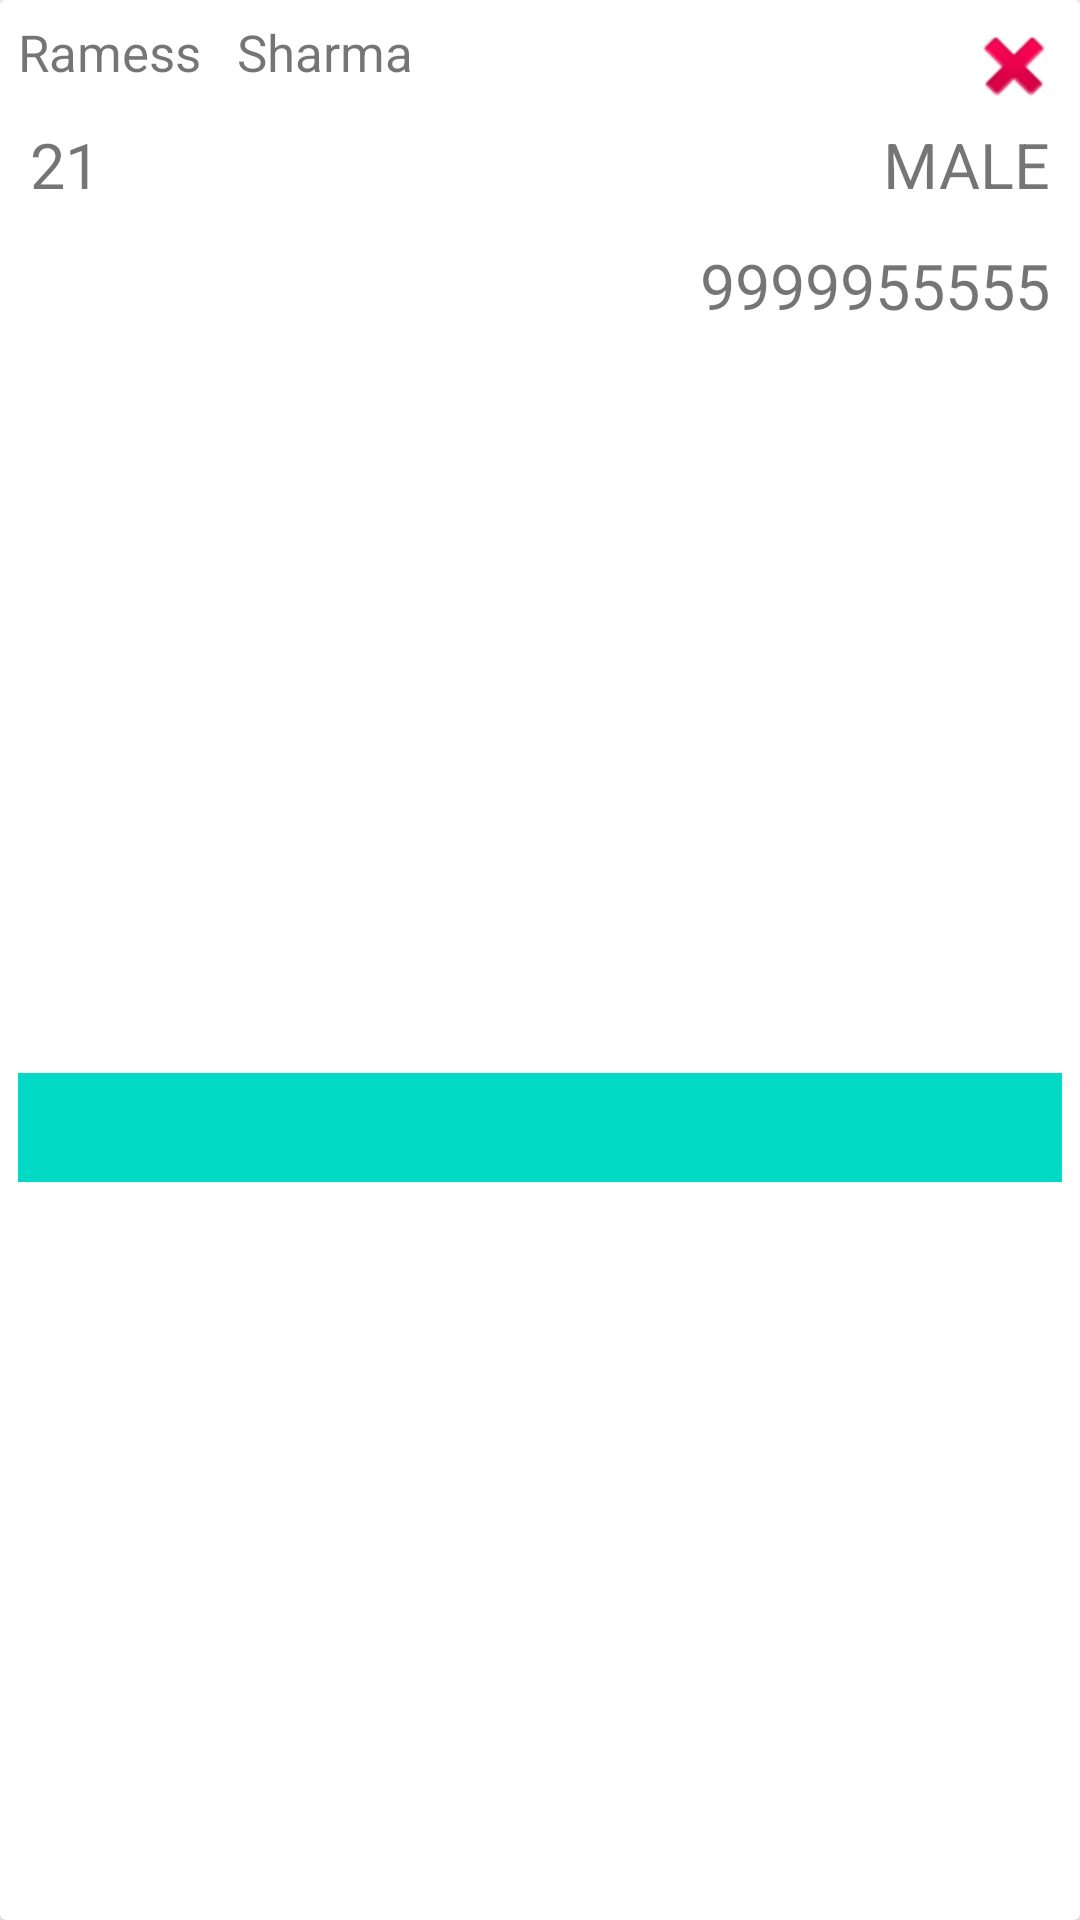

Screen size 1080px x 1920px. Icon name, then its box in pixels as {"left": x1, "top": y1, "right": x2, "bottom": y2}:
delete: {"left": 983, "top": 37, "right": 1045, "bottom": 96}
